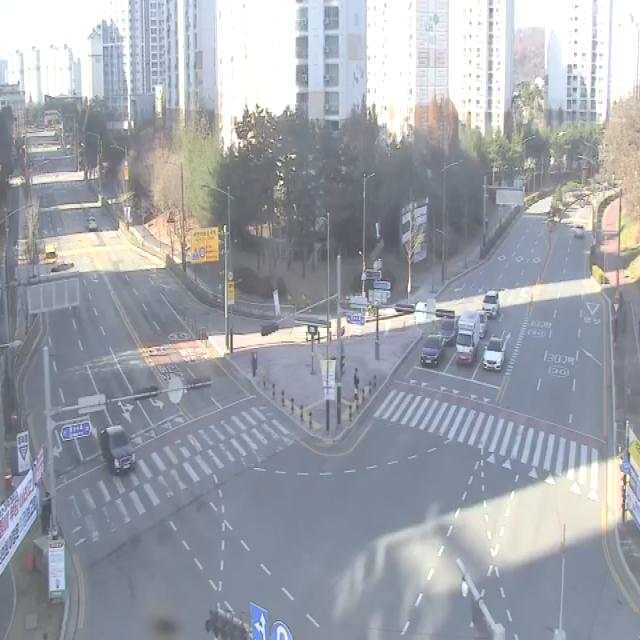Car: (100, 424, 136, 475), (482, 336, 507, 371), (421, 335, 446, 367), (439, 315, 461, 345), (482, 291, 500, 317), (85, 216, 97, 230), (574, 225, 585, 239)
Truck: (454, 312, 480, 366), (44, 244, 58, 264)
